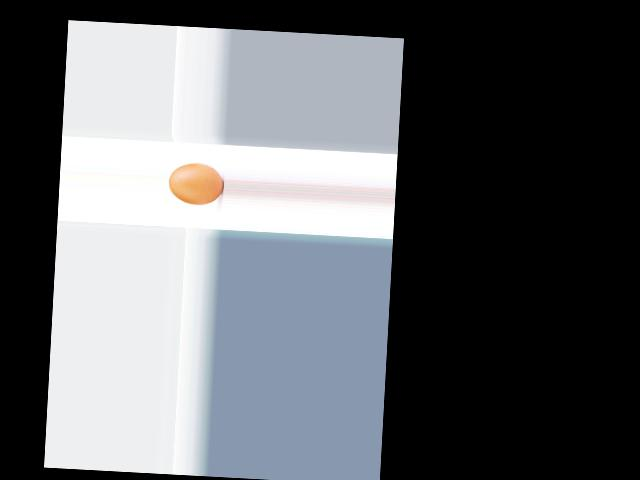egg: (168, 162, 224, 206)
